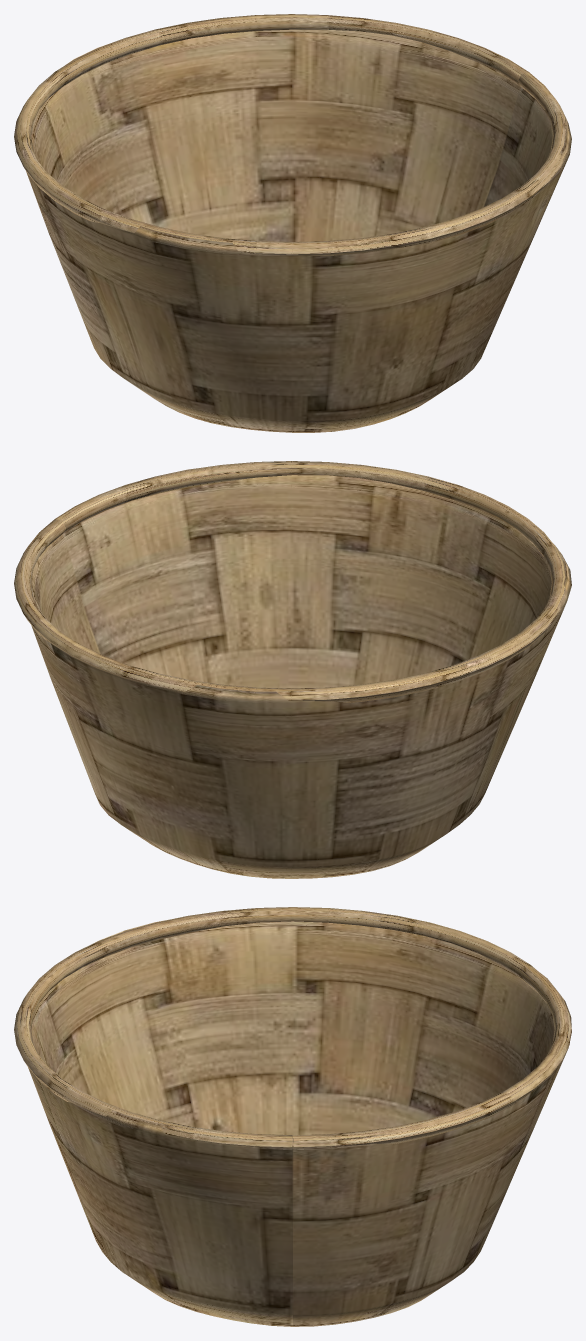
File: prop_dala.glb
3 views of the same model, one above another, from view 1: azimuth 30°, elevation 25°; view 2: azimuth 150°, elevation 25°; view 3: azimuth 270°, elevation 25° (orthographic).
Visible parts, largest first — view 1: prop_dala; view 2: prop_dala; view 3: prop_dala.
Boxes of the visible parts, x1=… form: prop_dala: x1=14, y1=14, x2=571, y2=432; prop_dala: x1=14, y1=461, x2=571, y2=878; prop_dala: x1=14, y1=907, x2=571, y2=1326.
Bounding box in the file's own units: 0.45 × 0.21 × 0.45.
1 material, 1 textured.
